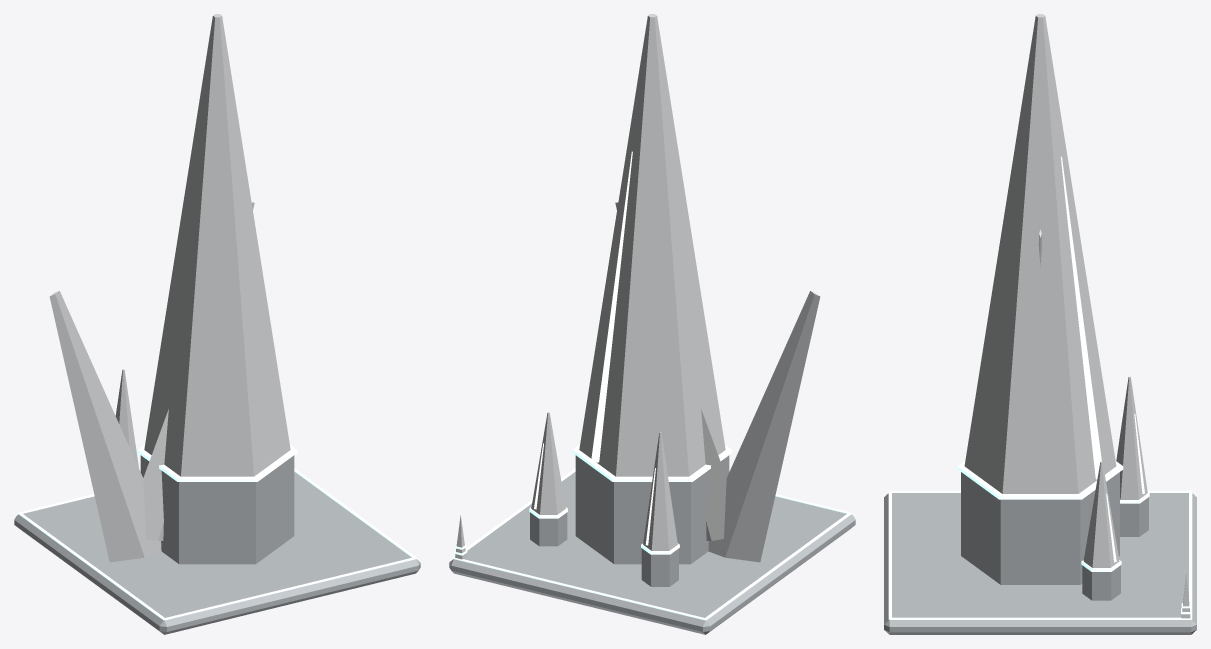
The model's file is zone_high_4_t2.glb.
3 renders of one model, left to right at view 1: azimuth 30°, elevation 25°; view 2: azimuth 150°, elevation 25°; view 3: azimuth 270°, elevation 25°, orthographic. The views are drawn at different scales.
Parts seen in each view (by area): view 1: zone_high_4_t2, detail; view 2: zone_high_4_t2, detail; view 3: zone_high_4_t2, detail.
Part boxes in pixels (x1,y1,x2,y2): zone_high_4_t2: [14, 14, 420, 634]; detail: [18, 468, 416, 620]; zone_high_4_t2: [449, 14, 855, 634]; detail: [453, 468, 851, 620]; zone_high_4_t2: [884, 14, 1196, 634]; detail: [888, 490, 1192, 619].
Bounding box in the file's own units: 31.43 × 56.45 × 27.5.
